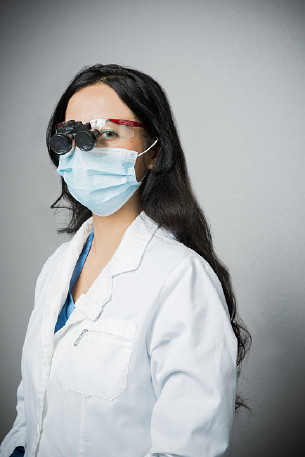face_mask: (60, 84, 142, 218)
